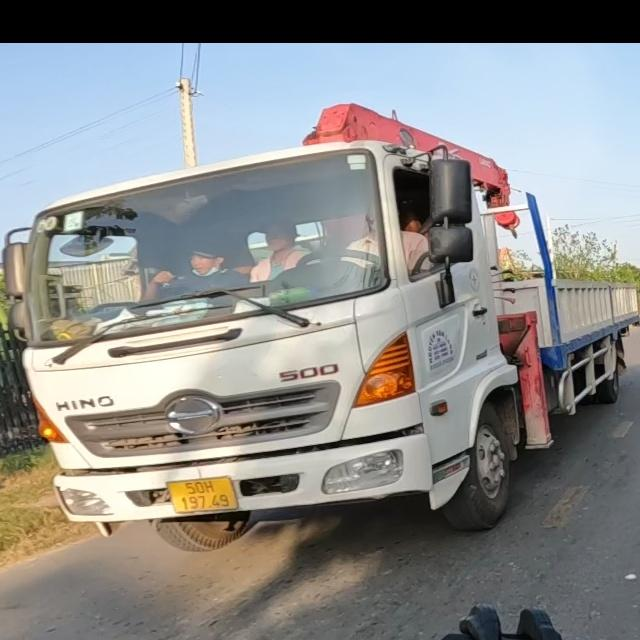license-plate: (168, 477, 239, 514)
